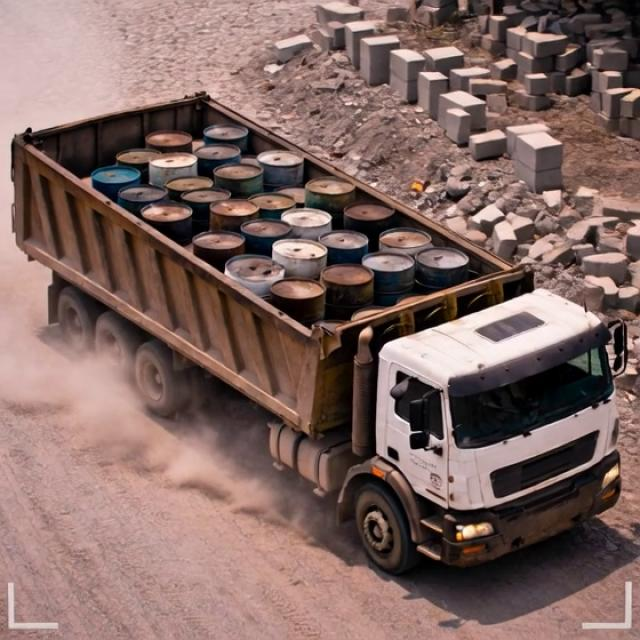trailer: (14, 96, 530, 343)
truck: (4, 71, 630, 584)
